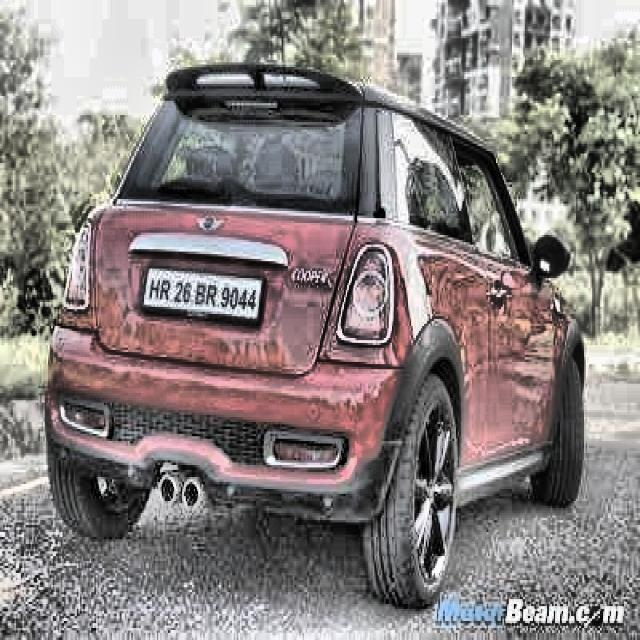license_plate: (142, 271, 259, 321)
